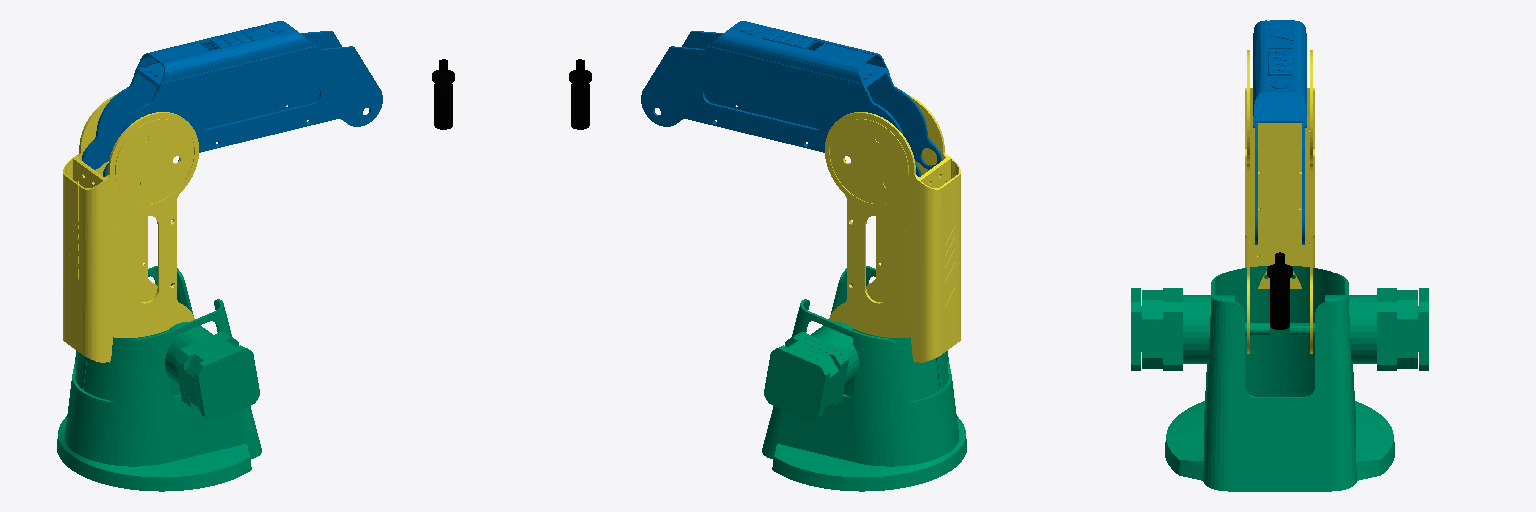
robot.urdf — scenario:
<?xml version="1.0" encoding="utf-8"?>
<!-- =================================================================================== -->
<!-- |    This document was autogenerated by xacro from /root/catkin_ws/src/dobot_description/urdf/scenario.xacro | -->
<!-- |    EDITING THIS FILE BY HAND IS NOT RECOMMENDED                                 | -->
<!-- =================================================================================== -->
<robot name="scenario">
  <!-- Created on: Mai, 2019 Author: [author] -->
  <!-- Defining usefull macros -->
  <!-- Created on: Mai, 2019 Author: [author] -->
  <gazebo>
    <plugin filename="libgazebo_ros_control.so" name="gazebo_ros_control_Dobot_Loader">
      <robotNamespace>Dobot_Loader</robotNamespace>
      <robotParam>robot_description</robotParam>
    </plugin>
    <plugin filename="libdobotSim.so" name="dobotSim_Dobot_Loader">
      <robotNamespace>Dobot_Loader</robotNamespace>
    </plugin>
  </gazebo>
  <link name="world"/>
  <joint name="Dobot_Loader_fixed" type="fixed">
    <parent link="world"/>
    <child link="Dobot_Loader"/>
    <origin rpy="0.0 0.0 0.0" xyz="0.0 0.56 0.05"/>
  </joint>
  <link name="Dobot_Loader">
    <inertial>
      <origin rpy="0 0 0" xyz="0 0 0.0"/>
      <mass value="1.0"/>
      <inertia ixx="0.00346666666667" ixy="0" ixz="0" iyy="0.00346666666667" iyz="0" izz="0.00666666666667"/>
    </inertial>
    <visual name="stand_vis">
      <origin rpy="0 -0.0 0" xyz="0 0 0"/>
      <geometry>
        <mesh filename="package://dobot_description/meshes/stand.dae" scale="1 1 1"/>
      </geometry>
    </visual>
    <collision name="stand_col">
      <origin rpy="0 0 0" xyz="0 0 -0.02"/>
      <geometry>
        <box size="0.16 0.16 0.04"/>
      </geometry>
    </collision>
  </link>
  <link name="Dobot_Loader_base_link">
    <inertial>
      <origin rpy="0 0 0" xyz="0 0 0.055"/>
      <mass value="0.75"/>
      <inertia ixx="0.000703125" ixy="0" ixz="0" iyy="0.000703125" iyz="0" izz="0.000703125"/>
    </inertial>
    <visual name="base_vis">
      <origin rpy="0 -0.0 0" xyz="0 0 0"/>
      <geometry>
        <mesh filename="package://dobot_description/meshes/base.dae" scale="1 1 1"/>
      </geometry>
    </visual>
    <collision name="base_vis">
      <origin rpy="0 0 0" xyz="0 0 0.055"/>
      <geometry>
        <cylinder length="0.11" radius="0.045"/>
      </geometry>
    </collision>
  </link>
  <joint name="Dobot_Loader_base_joint" type="revolute">
    <parent link="Dobot_Loader"/>
    <child link="Dobot_Loader_base_link"/>
    <origin rpy="0.0 0.0 0.0" xyz="0.0 0.0 0.0"/>
    <axis xyz="0 0 1"/>
    <dynamics damping="1.0" friction="1.0"/>
    <limit effort="50.0" lower="-3.0" upper="3.0" velocity="3.1415"/>
  </joint>
  <gazebo reference="Dobot_Loader_base_joint">
    <implicitSpringDamper>True</implicitSpringDamper>
  </gazebo>
  <transmission name="Dobot_Loader_base_transmission">
    <type>transmission_interface/SimpleTransmission</type>
    <joint name="Dobot_Loader_base_joint">
      <hardwareInterface>hardware_interface/EffortJointInterface</hardwareInterface>
    </joint>
    <actuator name="Dobot_Loader_base_motor">
      <hardwareInterface>hardware_interface/EffortJointInterface</hardwareInterface>
      <mechanicalReduction>1</mechanicalReduction>
    </actuator>
  </transmission>
  <link name="Dobot_Loader_shoulder_link">
    <inertial>
      <origin rpy="0 0 0" xyz="-0.03 0 0.08"/>
      <mass value="0.3"/>
      <inertia ixx="0.0006025" ixy="0" ixz="0" iyy="0.0007225" iyz="0" izz="0.0002"/>
    </inertial>
    <visual name="shoulder_vis">
      <origin rpy="0 -0.0 0" xyz="0 0 0"/>
      <geometry>
        <mesh filename="package://dobot_description/meshes/shoulder.dae" scale="1 1 1"/>
      </geometry>
    </visual>
    <collision name="shoulder_col">
      <origin rpy="0 0 0" xyz="-0.03 0 0.08"/>
      <geometry>
        <box size="0.08 0.04 0.15"/>
      </geometry>
    </collision>
  </link>
  <joint name="Dobot_Loader_shoulder_joint" type="revolute">
    <parent link="Dobot_Loader_base_link"/>
    <child link="Dobot_Loader_shoulder_link"/>
    <origin rpy="0.0 0.0 0.0" xyz="0.0 0.0 0.082"/>
    <axis xyz="0 1 0"/>
    <dynamics damping="1.0" friction="1.0"/>
    <limit effort="5.0" lower="-3.0" upper="3.0" velocity="3.1415"/>
  </joint>
  <gazebo reference="Dobot_Loader_shoulder_joint">
    <implicitSpringDamper>True</implicitSpringDamper>
  </gazebo>
  <transmission name="Dobot_Loader_shoulder_transmission">
    <type>transmission_interface/SimpleTransmission</type>
    <joint name="Dobot_Loader_shoulder_joint">
      <hardwareInterface>hardware_interface/EffortJointInterface</hardwareInterface>
    </joint>
    <actuator name="Dobot_Loader_shoulder_motor">
      <hardwareInterface>hardware_interface/EffortJointInterface</hardwareInterface>
      <mechanicalReduction>1</mechanicalReduction>
    </actuator>
  </transmission>
  <link name="Dobot_Loader_elbow_link">
    <inertial>
      <origin rpy="0 0 0" xyz="0.07 0 0.02"/>
      <mass value="0.3"/>
      <inertia ixx="0.00013" ixy="0" ixz="0" iyy="0.0009925" iyz="0" izz="0.0009425"/>
    </inertial>
    <visual name="elbow_vis">
      <origin rpy="0 -0.0 0" xyz="0 0 0"/>
      <geometry>
        <mesh filename="package://dobot_description/meshes/elbow.dae" scale="1 1 1"/>
      </geometry>
    </visual>
    <collision name="elbow_col">
      <origin rpy="0 0 0" xyz="0.07 0 0.02"/>
      <geometry>
        <box size="0.19 0.04 0.06"/>
      </geometry>
    </collision>
  </link>
  <joint name="Dobot_Loader_elbow_joint" type="revolute">
    <parent link="Dobot_Loader_shoulder_link"/>
    <child link="Dobot_Loader_elbow_link"/>
    <origin rpy="0.0 0.0 0.0" xyz="0.0 0.0 0.135"/>
    <axis xyz="0 1 0"/>
    <dynamics damping="1.0" friction="1.0"/>
    <limit effort="50.0" lower="-3.0" upper="3.0" velocity="3.1415"/>
  </joint>
  <gazebo reference="Dobot_Loader_elbow_joint">
    <implicitSpringDamper>True</implicitSpringDamper>
  </gazebo>
  <transmission name="Dobot_Loader_elbow_transmission">
    <type>transmission_interface/SimpleTransmission</type>
    <joint name="Dobot_Loader_elbow_joint">
      <hardwareInterface>hardware_interface/EffortJointInterface</hardwareInterface>
    </joint>
    <actuator name="Dobot_Loader_elbow_motor">
      <hardwareInterface>hardware_interface/EffortJointInterface</hardwareInterface>
      <mechanicalReduction>1</mechanicalReduction>
    </actuator>
  </transmission>
  <link name="Dobot_Loader_hand_link">
    <inertial>
      <origin rpy="0 0 0" xyz="0.05 0 0.005"/>
      <mass value="0.2"/>
      <inertia ixx="4.83333333333e-05" ixy="0" ixz="0" iyy="0.000208333333333" iyz="0" izz="0.000173333333333"/>
    </inertial>
    <visual name="hand_vis">
      <origin rpy="0 0 0" xyz="0 0 0"/>
      <!-- ${-PI_2} -->
      <geometry>
        <mesh filename="package://dobot_description/meshes/hand.dae" scale="1 1 1"/>
      </geometry>
    </visual>
    <collision name="hand_col">
      <origin rpy="0 0 0" xyz="0.05 0 0.005"/>
      <geometry>
        <box size="0.1 0.02 0.05"/>
      </geometry>
    </collision>
  </link>
  <joint name="Dobot_Loader_hand_joint" type="revolute">
    <parent link="Dobot_Loader_elbow_link"/>
    <child link="Dobot_Loader_hand_link"/>
    <origin rpy="0.0 0 0.0" xyz="0.147 0.0 0.0"/>
    <!-- 0 ${PI_2} 0 -->
    <axis xyz="0 1 0"/>
    <dynamics damping="1.0" friction="1.0"/>
    <limit effort="50.0" lower="-3.0" upper="3.0" velocity="3.1415"/>
  </joint>
  <gazebo reference="Dobot_Loader_hand_joint">
    <implicitSpringDamper>True</implicitSpringDamper>
  </gazebo>
  <!-- 
\t\t<transmission name="${name}_hand_transmission">
\t\t\t<type>transmission_interface/SimpleTransmission</type>
\t\t\t<joint name="${name}_hand_joint">
\t\t\t\t<hardwareInterface>hardware_interface/VelocityJointInterface</hardwareInterface>
\t\t\t</joint>
\t\t\t<actuator name="${name}_hand_motor">
\t\t\t\t<hardwareInterface>hardware_interface/VelocityJointInterface</hardwareInterface>
\t\t\t\t<mechanicalReduction>1</mechanicalReduction>
\t\t\t</actuator>
\t\t</transmission> -->
  <link name="Dobot_Loader_tool_link">
    <inertial>
      <origin rpy="0 0 0" xyz="0 0 0.0"/>
      <mass value="0.1"/>
      <inertia ixx="2.13020833333e-05" ixy="0" ixz="0" iyy="2.13020833333e-05" iyz="0" izz="9.375e-07"/>
    </inertial>
    <visual name="base_vis">
      <origin rpy="0 -0.0 0" xyz="0 0 0"/>
      <geometry>
        <mesh filename="package://dobot_description/meshes/suctionTool.dae" scale="1 1 1"/>
      </geometry>
    </visual>
    <collision name="tool_col">
      <origin rpy="0 0 0" xyz="0 0 -0.01"/>
      <geometry>
        <cylinder length="0.04" radius="0.0075"/>
      </geometry>
    </collision>
  </link>
  <joint name="Dobot_Loader_tool_joint" type="revolute">
    <parent link="Dobot_Loader_hand_link"/>
    <child link="Dobot_Loader_tool_link"/>
    <origin rpy="0 0 0" xyz="0.069 0.0 0.0"/>
    <axis xyz="0 0 1"/>
    <dynamics damping="1.0" friction="1.0"/>
    <limit effort="5.0" lower="-3.0" upper="3.0" velocity="3.1415"/>
  </joint>
  <gazebo reference="Dobot_Loader_tool_joint">
    <implicitSpringDamper>True</implicitSpringDamper>
  </gazebo>
  <transmission name="Dobot_Loader_tool_transmission">
    <type>transmission_interface/SimpleTransmission</type>
    <joint name="Dobot_Loader_tool_joint">
      <hardwareInterface>hardware_interface/EffortJointInterface</hardwareInterface>
    </joint>
    <actuator name="Dobot_Loader_tool_motor">
      <hardwareInterface>hardware_interface/EffortJointInterface</hardwareInterface>
      <mechanicalReduction>1</mechanicalReduction>
    </actuator>
  </transmission>
  <link name="Dobot_Loader_gripper_link">
    <inertial>
      <origin rpy="0 0 0" xyz="0 0 -0.035"/>
      <mass value="0.1"/>
      <inertia ixx="4.41666666667e-05" ixy="0" ixz="0" iyy="4.41666666667e-05" iyz="0" izz="6.66666666667e-06"/>
    </inertial>
    <visual name="base_vis">
      <origin rpy="0 -0.0 0" xyz="0 0 -0.00125"/>
      <geometry>
        <mesh filename="package://dobot_description/meshes/suction.dae" scale="1 1 1"/>
      </geometry>
    </visual>
    <collision name="tool_col">
      <origin rpy="0 0 0" xyz="0 0 -0.045"/>
      <geometry>
        <cylinder length="0.03" radius="0.01"/>
      </geometry>
    </collision>
    <collision name="suction_col">
      <origin rpy="0 0 0" xyz="0 0 -0.061"/>
      <geometry>
        <cylinder length="0.001" radius="0.0125"/>
      </geometry>
    </collision>
  </link>
  <joint name="Dobot_Loader_gripper_joint" type="prismatic">
    <parent link="Dobot_Loader_tool_link"/>
    <child link="Dobot_Loader_gripper_link"/>
    <origin rpy="0 0 0" xyz="0.0 0.0 0.0"/>
    <axis xyz="0 0 1"/>
    <dynamics damping="1.0" friction="1.0"/>
    <limit effort="10.0" lower="-0.001" upper="0.01" velocity="0.5"/>
  </joint>
  <gazebo reference="Dobot_Loader_gripper_joint">
    <implicitSpringDamper>True</implicitSpringDamper>
  </gazebo>
</robot>

--- Facts derived from the render (not from the file) ---
Views: 3 orthographic renders of the robot side by side, from view 1: azimuth 30°, elevation 25°; view 2: azimuth 150°, elevation 25°; view 3: azimuth 270°, elevation 25°.
Robot: scenario — 8 links, 7 joints (5 revolute, 1 prismatic, 1 fixed); root link world; default pose: every joint at zero.
Links seen in each view (by area): view 1: Dobot_Loader_base_link, Dobot_Loader_shoulder_link, Dobot_Loader_elbow_link, Dobot_Loader_tool_link; view 2: Dobot_Loader_base_link, Dobot_Loader_shoulder_link, Dobot_Loader_elbow_link, Dobot_Loader_tool_link; view 3: Dobot_Loader_base_link, Dobot_Loader_shoulder_link, Dobot_Loader_elbow_link, Dobot_Loader_tool_link.
Boxes of the visible links, x1,y1,x2,y2 form: Dobot_Loader_base_link: (57, 266, 261, 491); Dobot_Loader_shoulder_link: (63, 94, 198, 362); Dobot_Loader_elbow_link: (82, 21, 382, 176); Dobot_Loader_tool_link: (432, 59, 454, 129); Dobot_Loader_base_link: (762, 266, 966, 491); Dobot_Loader_shoulder_link: (825, 94, 960, 362); Dobot_Loader_elbow_link: (641, 21, 941, 176); Dobot_Loader_tool_link: (569, 59, 591, 129); Dobot_Loader_base_link: (1131, 266, 1428, 491); Dobot_Loader_shoulder_link: (1245, 50, 1314, 353); Dobot_Loader_elbow_link: (1253, 20, 1306, 244); Dobot_Loader_tool_link: (1267, 252, 1292, 329).
Size in the robot's own frame: 0.2935 by 0.1796 by 0.2861 metres.
4 mesh visuals loaded from 7 distinct referenced files (4 Collada DAE); not drawn: 3 (reference not matched to a file when rendering).
